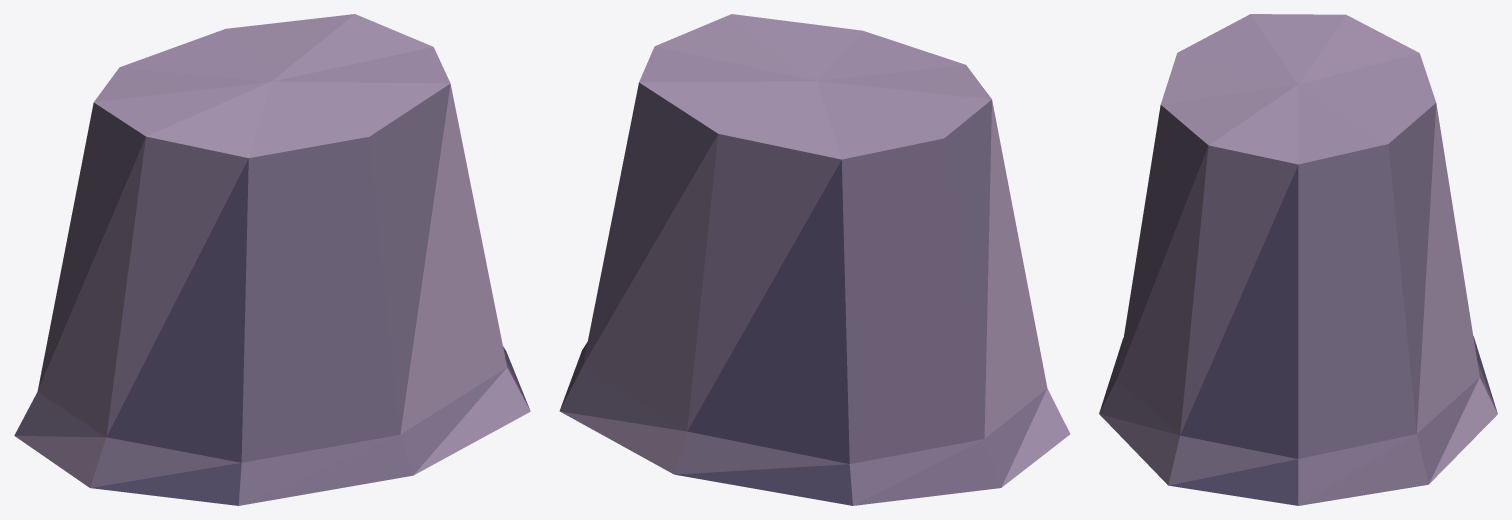
The picture shows the model from 3 angles, left to right: view 1: azimuth 30°, elevation 25°; view 2: azimuth 150°, elevation 25°; view 3: azimuth 270°, elevation 25°; orthographic projection. The views are drawn at different scales.
Parts seen in each view (by area): view 1: 错层台地_1.001; view 2: 错层台地_1.001; view 3: 错层台地_1.001.
Boxes of the visible parts, box(x1,y1,x2,y2) form: 错层台地_1.001: box(14, 14, 530, 505); 错层台地_1.001: box(559, 14, 1070, 505); 错层台地_1.001: box(1099, 14, 1497, 505).
Bounding box in the file's own units: 1.39 × 0.9578 × 1.1.
